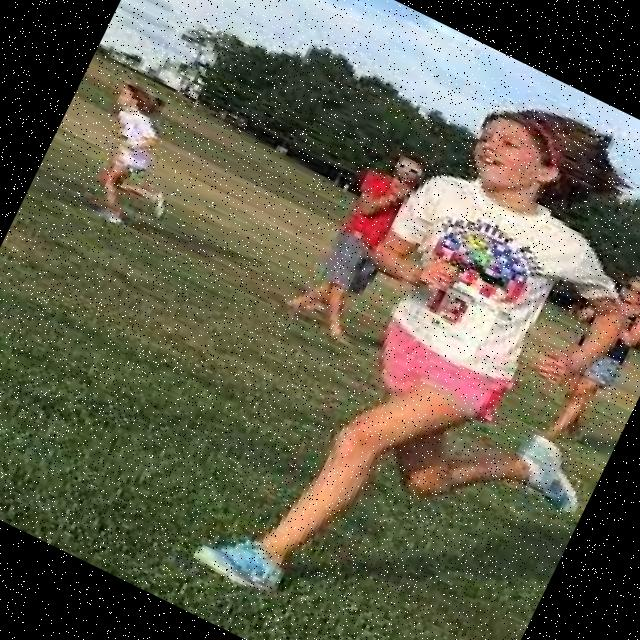Person: (186, 51, 640, 640), (278, 135, 433, 343), (66, 80, 210, 242), (524, 257, 640, 455)
